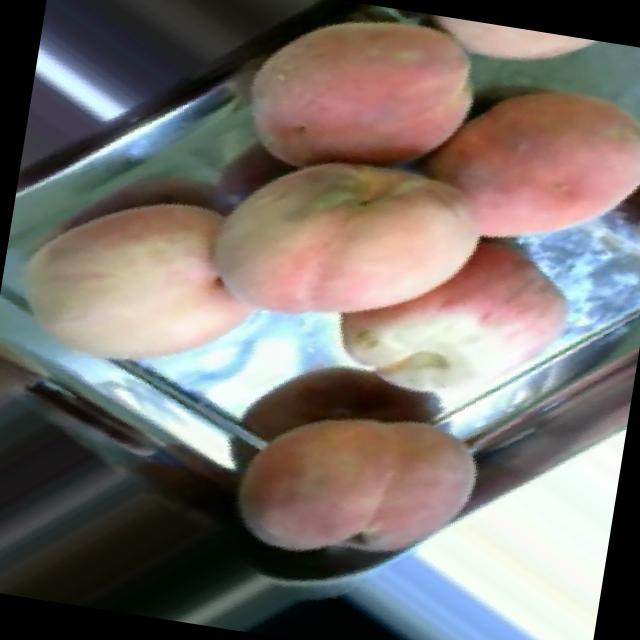Fruit: (174, 91, 526, 376), (0, 144, 310, 417), (214, 352, 519, 602), (212, 0, 517, 221), (398, 39, 640, 288), (324, 202, 596, 394), (386, 8, 640, 107)
